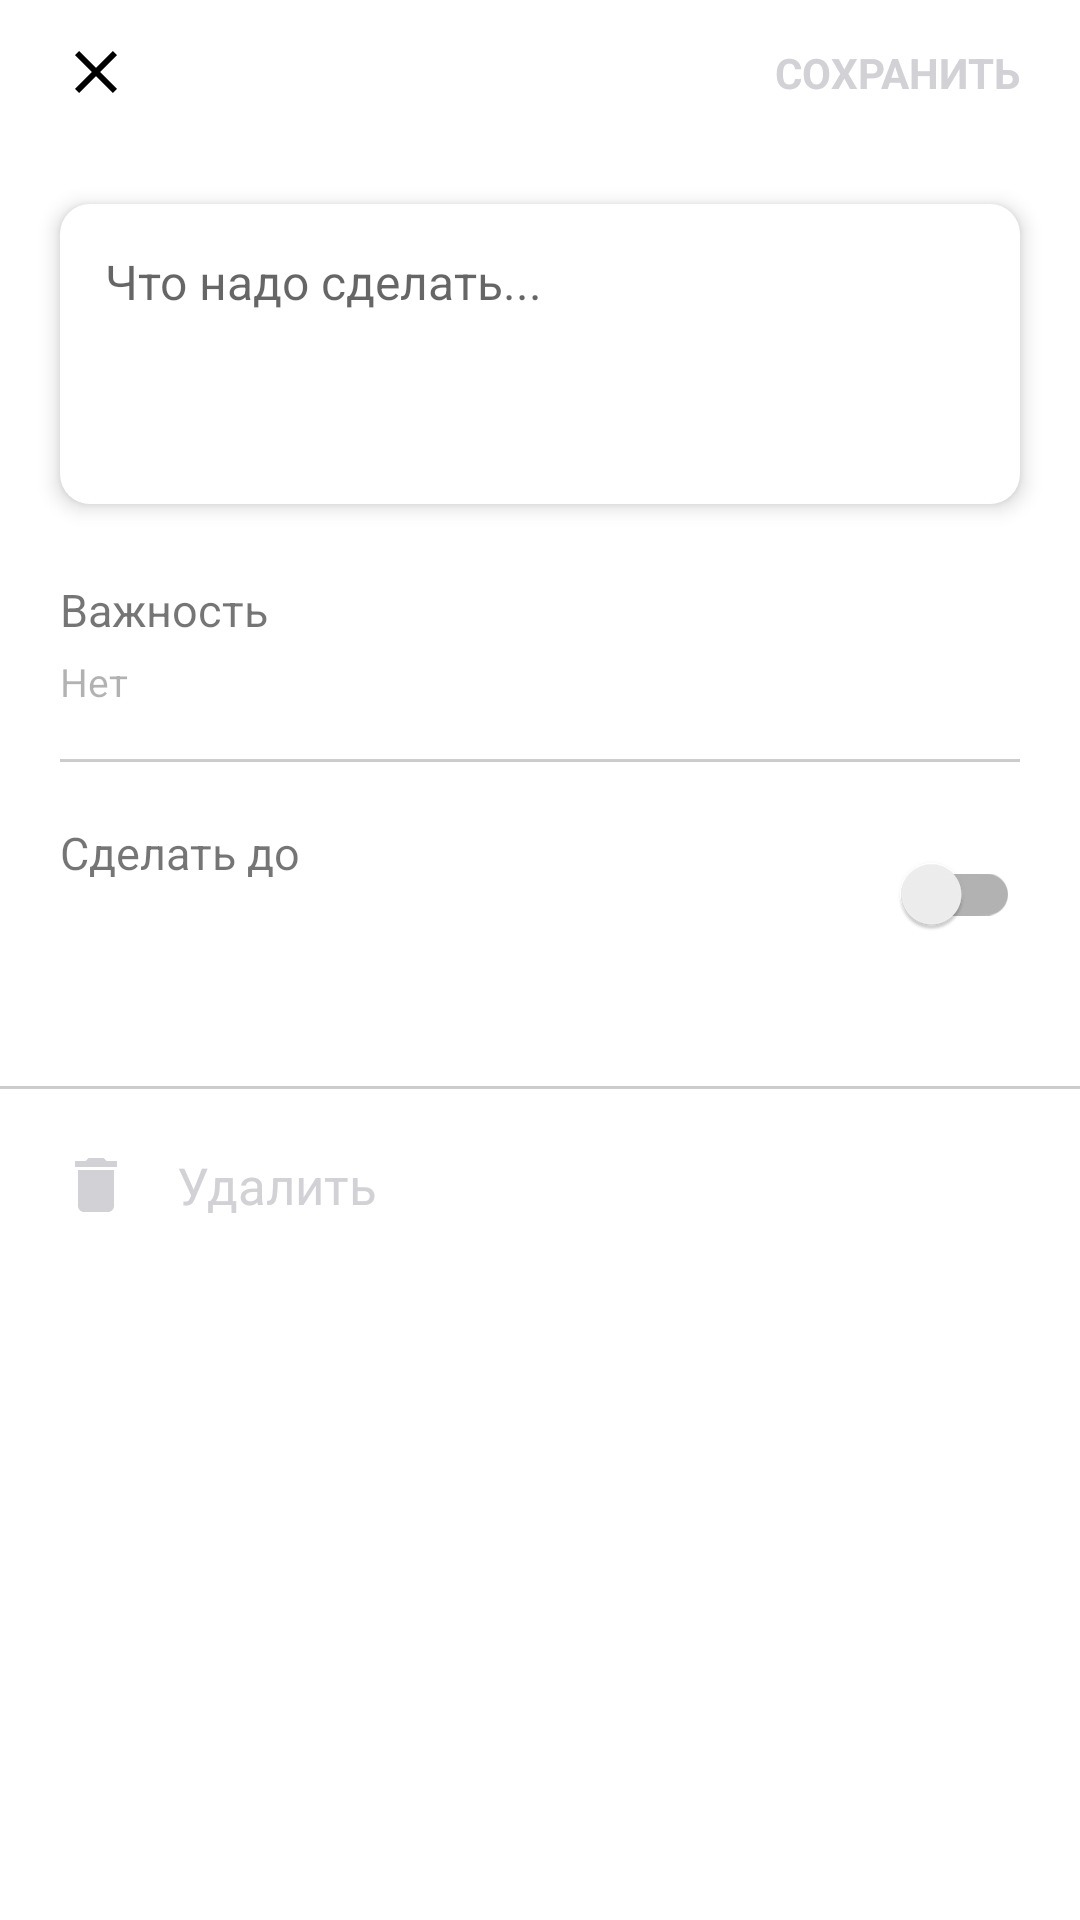

Where icons sit on this 1080px x 1920px app screen, as (x1, y1, x2, y2):
close: (75, 51, 117, 93)
